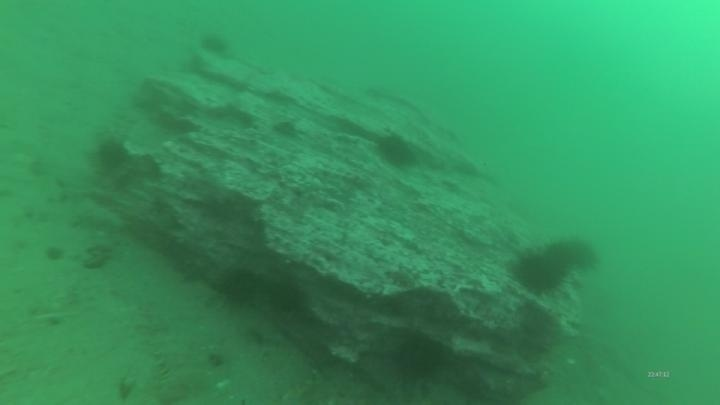echinus: (510, 248, 569, 297), (390, 333, 447, 383), (543, 234, 600, 274), (215, 265, 263, 308), (374, 130, 419, 170), (264, 275, 307, 316), (93, 135, 131, 173), (198, 30, 233, 60)
